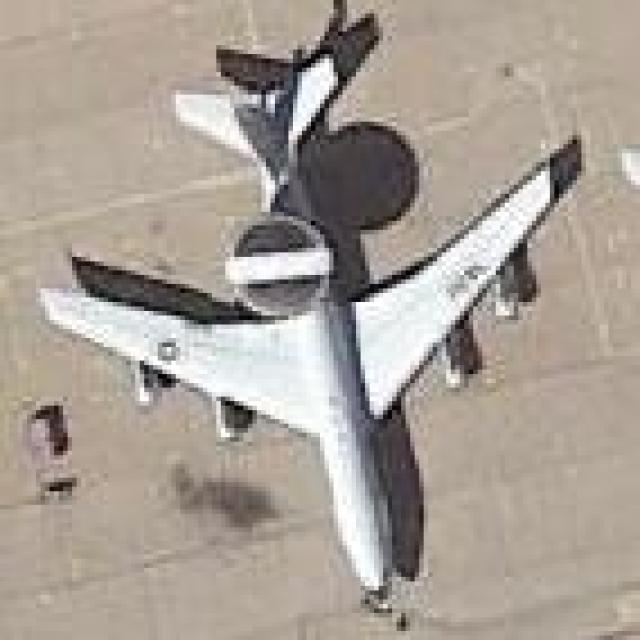E-3_TopDown: (31, 0, 585, 617)
